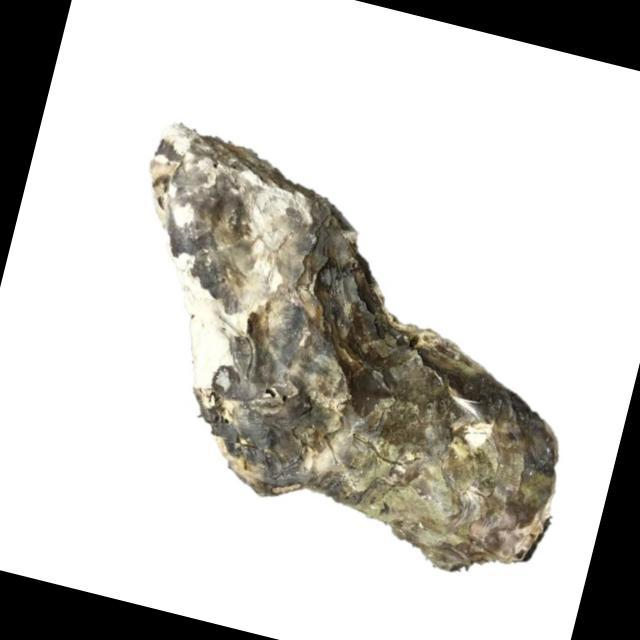Oyster- Indeterminate: (148, 123, 559, 574)
